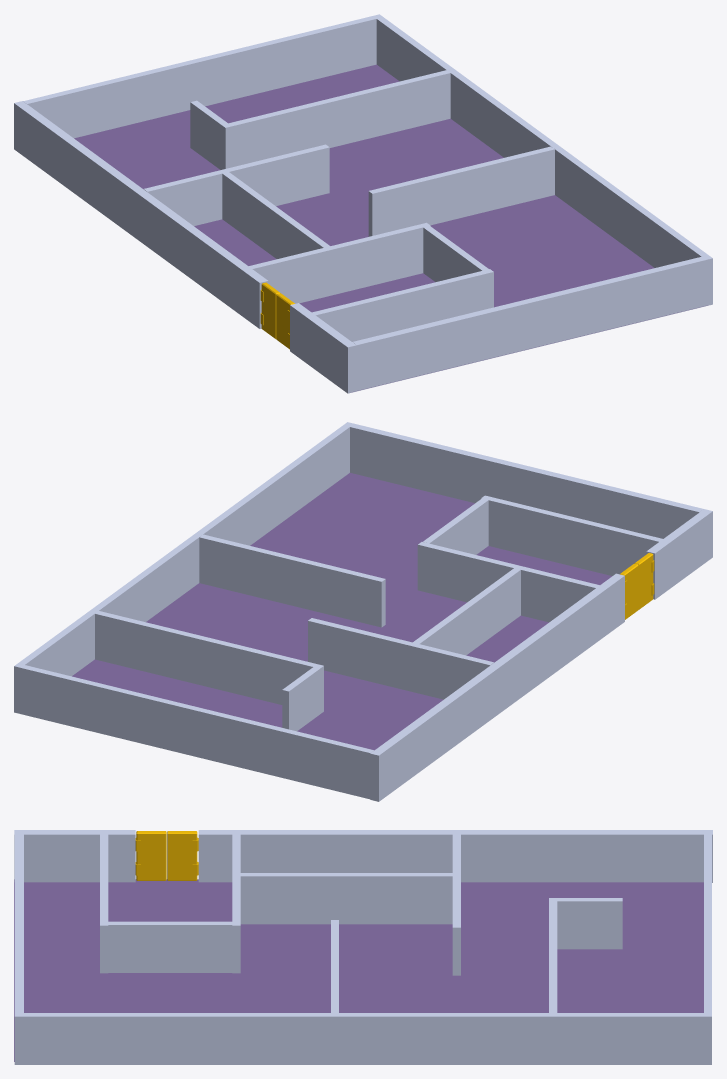
The model's file is maps40.fbx.
3 renders of one model, top to bottom at view 1: azimuth 30°, elevation 25°; view 2: azimuth 150°, elevation 25°; view 3: azimuth 270°, elevation 25°, orthographic. The views are drawn at different scales.
Visible parts, largest first — view 1: wall_01_08_geo, wall_01_05_geo, wall_01_09_geo, wall_01_06_geo1, wall_01_07_geo, wall_01_09_geo6, wall_01_09_geo8, wall_01_09_geo5, wall_01_09_geo4, wall_01_09_geo9, wall_01_11_geo6, wall_01_07_geo1 (+4 smaller); view 2: wall_01_08_geo, wall_01_09_geo, wall_01_05_geo, wall_01_06_geo1, wall_01_07_geo, wall_01_09_geo6, wall_01_09_geo8, wall_01_09_geo4, wall_01_09_geo9, wall_01_09_geo5, wall_01_11_geo6, wall_01_07_geo1 (+4 smaller); view 3: wall_01_08_geo, wall_01_06_geo1, wall_01_07_geo, wall_01_11_geo6, wall_01_11_geo7, wall_01_07_geo1, wall_01_11_geo5, wall_01_05_geo, polySurface165, polySurface161, wall_01_09_geo, wall_01_09_geo4 (+4 smaller).
Part boxes in pixels (<box>): wall_01_08_geo: <box>74,64,707,392</box>; wall_01_05_geo: <box>352,257,705,391</box>; wall_01_09_geo: <box>23,16,376,138</box>; wall_01_06_geo1: <box>373,14,712,305</box>; wall_01_07_geo: <box>14,101,268,328</box>; wall_01_09_geo6: <box>221,70,450,169</box>; wall_01_09_geo8: <box>368,146,554,236</box>; wall_01_09_geo5: <box>249,222,430,303</box>; wall_01_09_geo4: <box>143,144,329,225</box>; wall_01_09_geo9: <box>310,269,493,341</box>; wall_01_11_geo6: <box>222,171,329,258</box>; wall_01_07_geo1: <box>290,303,356,393</box>; wall_01_08_geo: <box>72,473,611,750</box>; wall_01_09_geo: <box>20,665,373,799</box>; wall_01_05_geo: <box>350,423,703,538</box>; wall_01_06_geo1: <box>14,422,353,713</box>; wall_01_07_geo: <box>370,573,624,801</box>; wall_01_09_geo6: <box>95,611,323,713</box>; wall_01_09_geo8: <box>199,534,385,627</box>; wall_01_09_geo4: <box>308,618,494,699</box>; wall_01_09_geo9: <box>481,495,663,575</box>; wall_01_09_geo5: <box>417,542,600,622</box>; wall_01_11_geo6: <box>413,568,520,655</box>; wall_01_07_geo1: <box>646,509,712,599</box>; wall_01_08_geo: <box>14,879,703,1061</box>; wall_01_06_geo1: <box>14,1013,711,1064</box>; wall_01_07_geo: <box>198,830,712,882</box>; wall_01_11_geo6: <box>240,873,453,924</box>; wall_01_11_geo7: <box>108,921,232,972</box>; wall_01_07_geo1: <box>14,830,135,882</box>; wall_01_11_geo5: <box>557,898,622,949</box>; wall_01_05_geo: <box>14,834,23,1012</box>; polySurface165: <box>135,831,166,880</box>; polySurface161: <box>167,831,198,880</box>; wall_01_09_geo: <box>704,834,711,1012</box>; wall_01_09_geo4: <box>452,834,460,975</box>.
Size of the model in its own units: 73.34 by 8.89 by 116.
2 materials, 2 textured.
